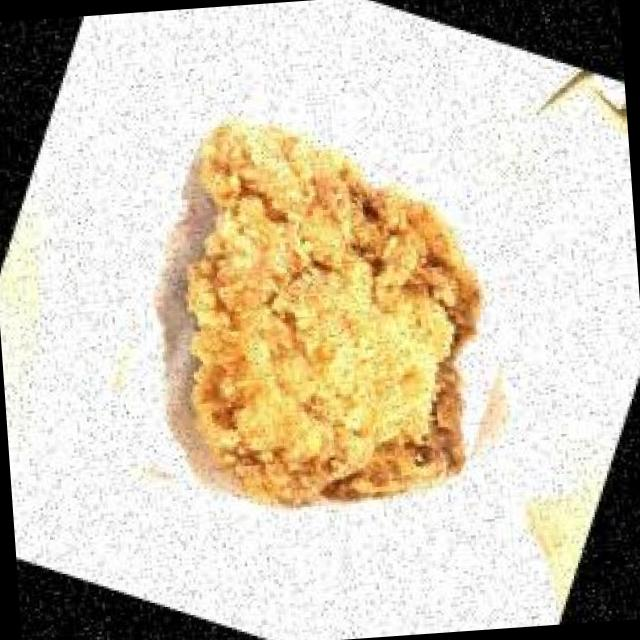fried_chicken: (72, 81, 574, 584)
